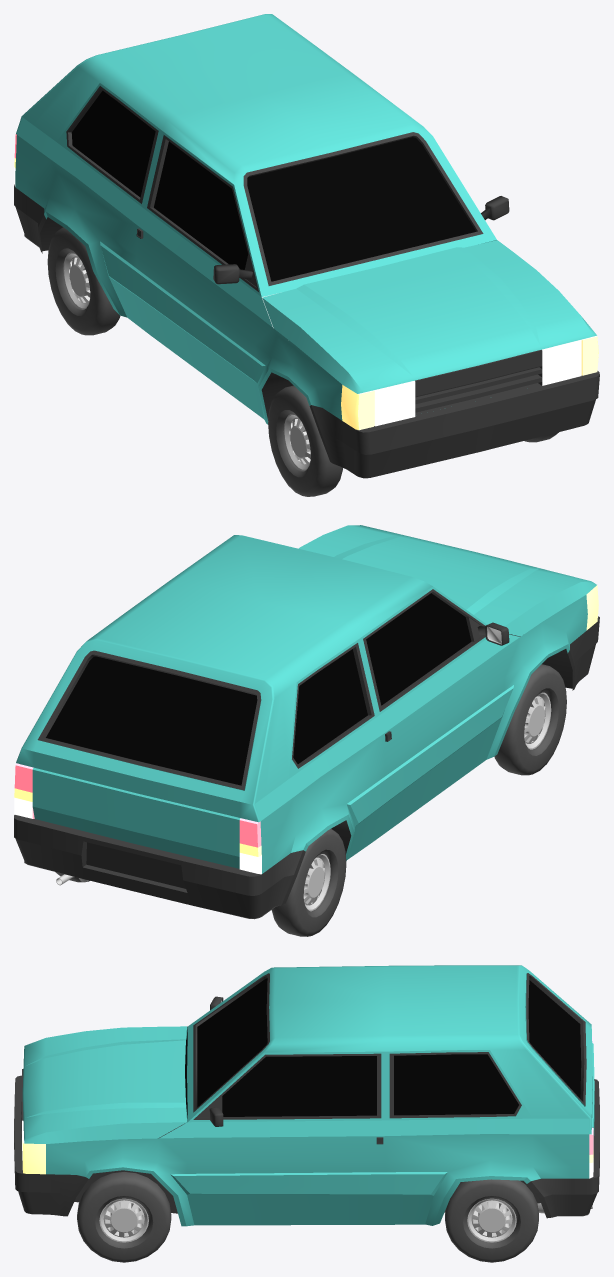
File: panda.glb
3 views of the same model, one above another, from view 1: azimuth 30°, elevation 25°; view 2: azimuth 150°, elevation 25°; view 3: azimuth 270°, elevation 25° (orthographic). The views are drawn at different scales.
Visible parts, largest first — view 1: body, wheel_fr, wheel_br; view 2: body, wheel_fr, wheel_br; view 3: body, wheel_fl, wheel_bl.
Part boxes in pixels (x1,y1,x2,y2): body: (14, 14, 599, 478); wheel_fr: (268, 385, 342, 496); wheel_br: (47, 227, 120, 335); body: (14, 525, 599, 919); wheel_fr: (494, 664, 566, 775); wheel_br: (271, 829, 346, 936); body: (14, 965, 599, 1226); wheel_fl: (77, 1171, 171, 1262); wheel_bl: (445, 1179, 538, 1262).
Size of the model in its own units: 1.32 by 1.1 by 2.73.
